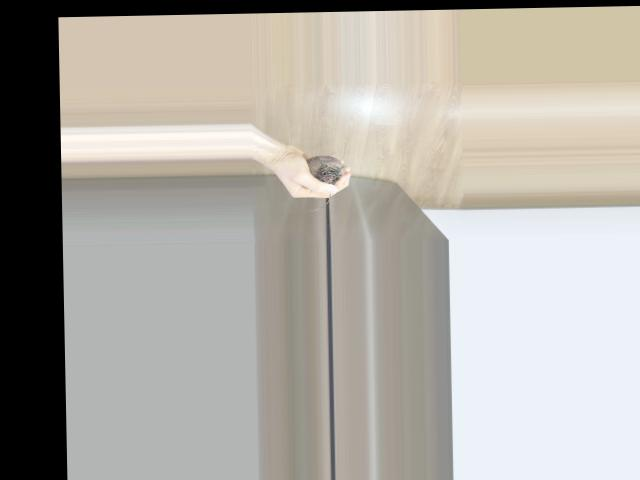beet: (306, 154, 346, 211)
